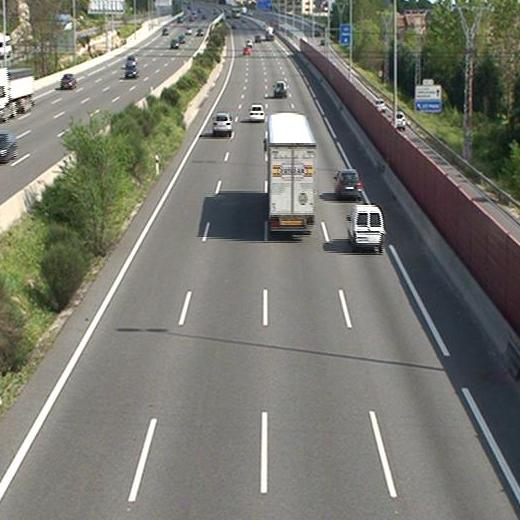car: (334, 169, 362, 198), (213, 111, 232, 135), (247, 102, 266, 121), (272, 80, 287, 97)
truck: (263, 112, 315, 235)
van: (345, 205, 385, 249)
